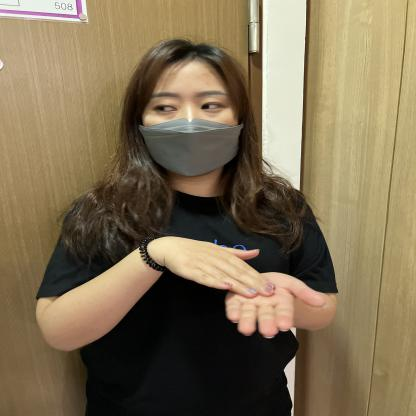Love: (63, 204, 340, 354)
